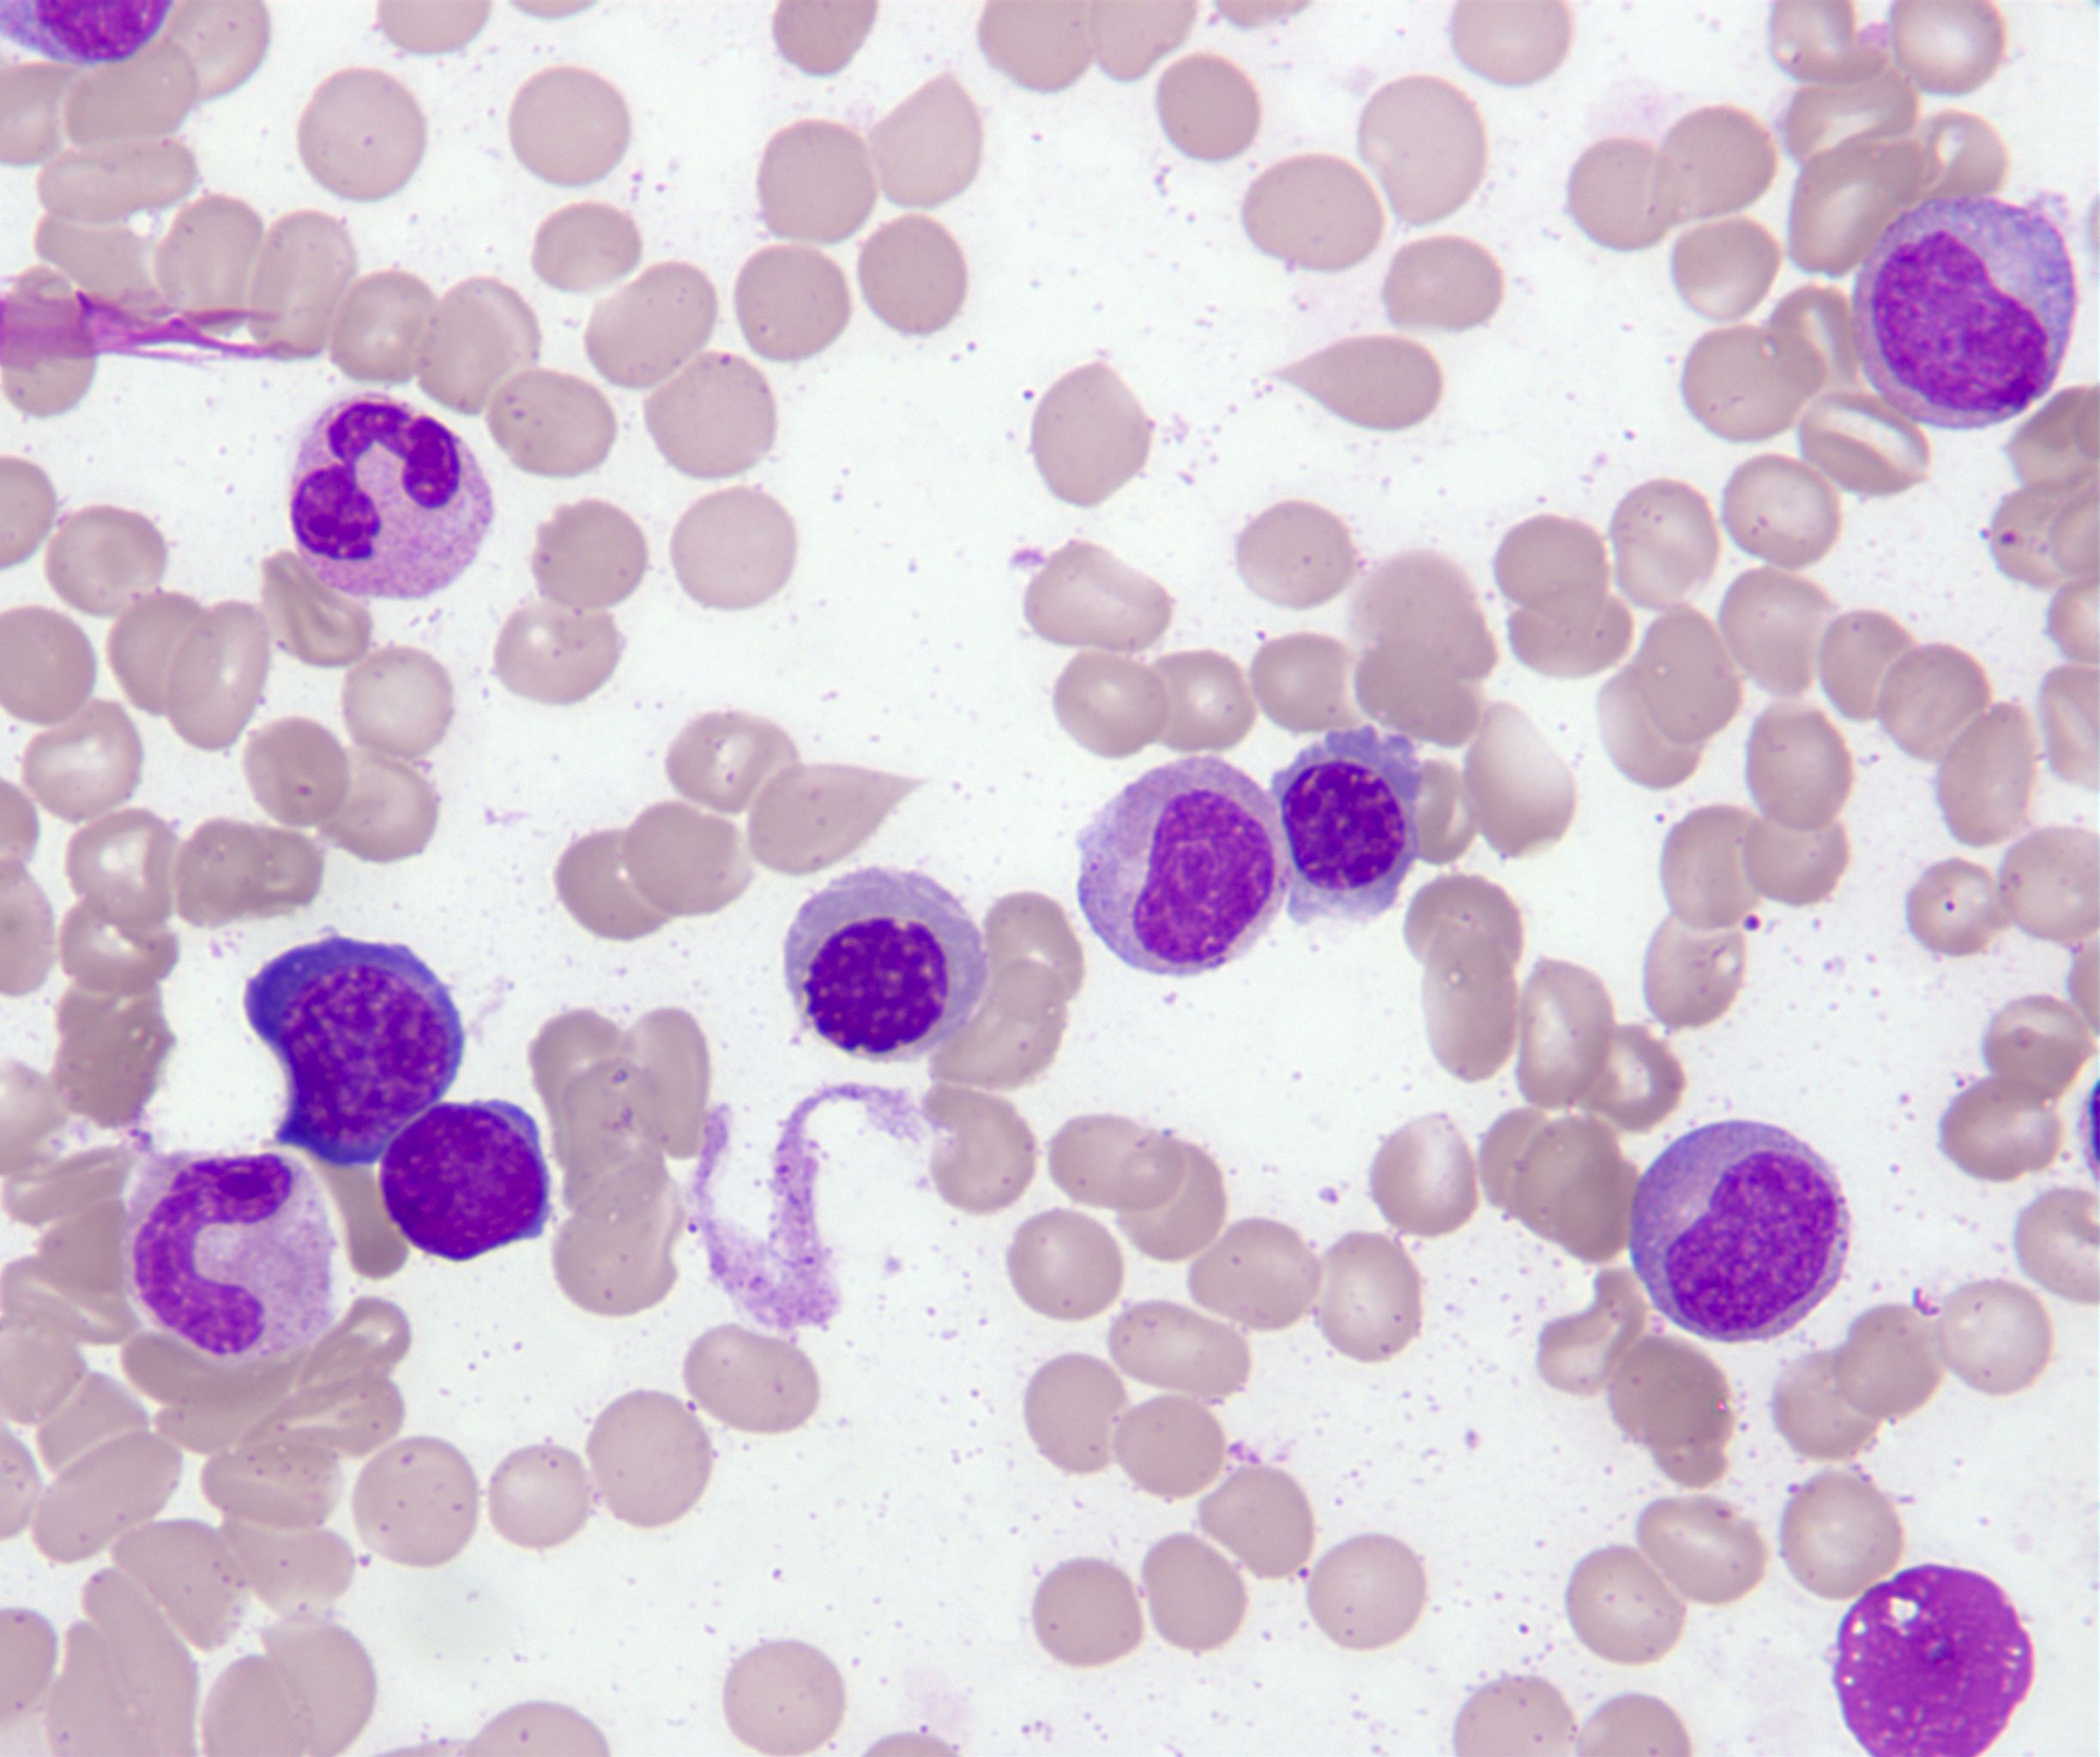22: (246, 935, 464, 1167)
23: (1270, 724, 1422, 926)
24: (785, 867, 987, 1063)
3: (1854, 199, 2077, 431), (1076, 754, 1292, 977), (1629, 1124, 1849, 1342)
5: (120, 1150, 337, 1361)
6: (291, 391, 494, 597)
x: (1837, 1565, 2034, 1757), (377, 1099, 548, 1261)
